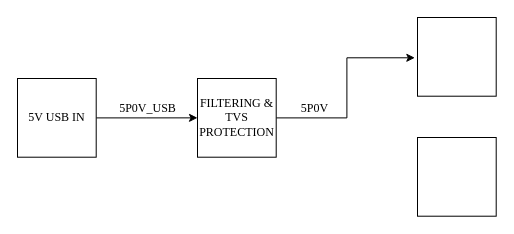
Some shapes in this 514 by 234 pixel diagram are drawn without their labels. Each missing label, with the box of its shape:
1.8V REGULATOR: (416, 136, 496, 216)
3.3 V REGULATOR: (416, 16, 496, 96)
